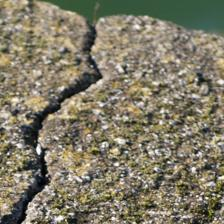Crack: (2, 13, 107, 211)
